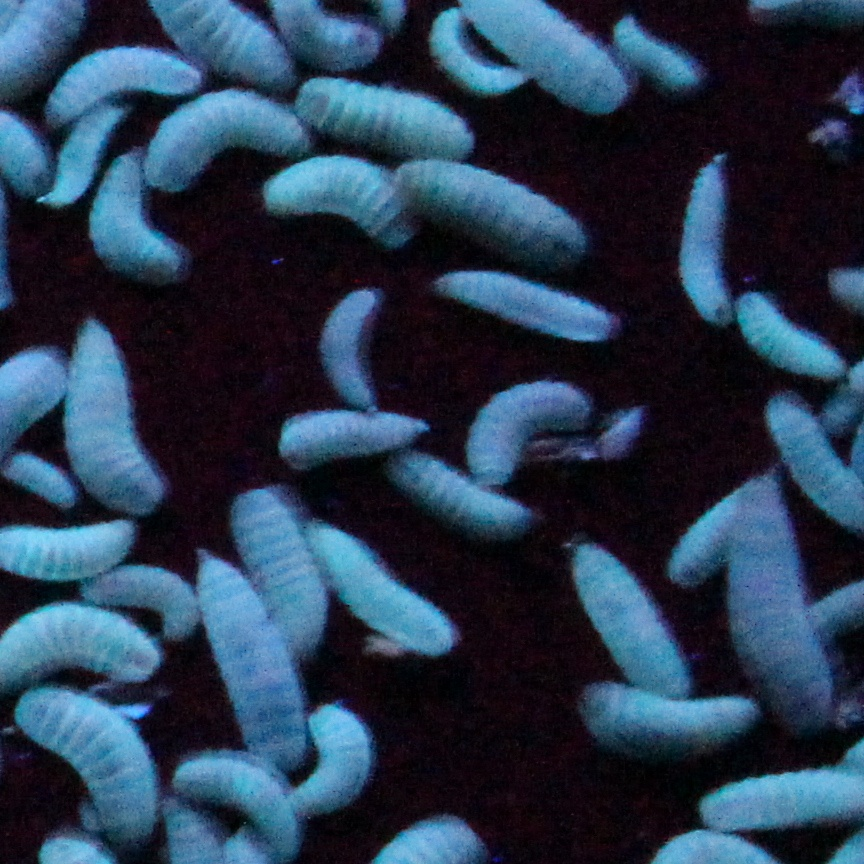larve: (719, 476, 844, 736), (179, 559, 326, 774), (69, 321, 184, 524), (19, 691, 176, 834), (574, 546, 709, 711), (406, 146, 591, 261), (236, 489, 339, 664), (314, 534, 461, 654), (84, 129, 196, 286), (154, 76, 304, 189), (294, 69, 466, 166), (474, 366, 601, 494), (574, 681, 766, 759), (444, 256, 611, 341), (56, 39, 211, 124), (744, 281, 849, 404), (169, 741, 291, 844), (396, 441, 531, 531), (264, 156, 409, 239), (1, 509, 166, 581), (321, 291, 391, 426), (296, 706, 376, 816), (99, 564, 211, 639), (419, 14, 526, 91), (681, 159, 729, 321), (609, 19, 701, 96), (44, 106, 114, 204), (679, 496, 754, 586), (276, 419, 426, 454)
